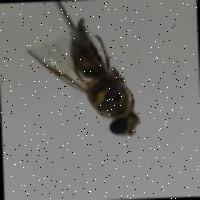Oriental-fruit-fly: (31, 9, 144, 151)
